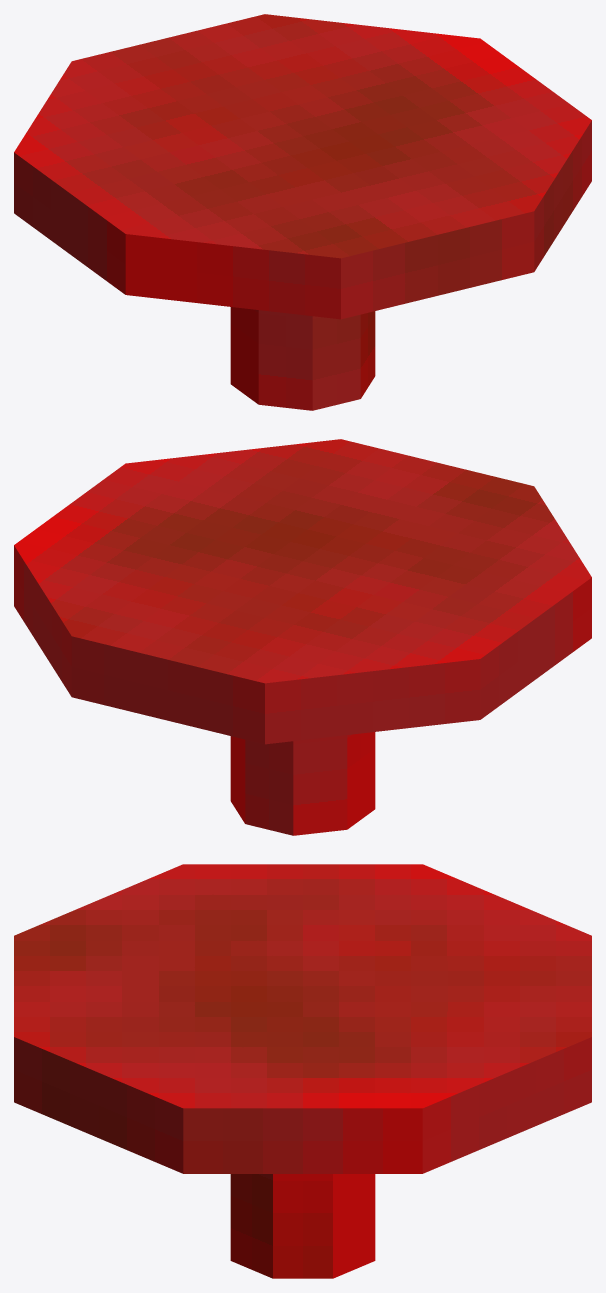
The model's file is pipeValve.gltf.
3 renders of one model, top to bottom at view 1: azimuth 30°, elevation 25°; view 2: azimuth 150°, elevation 25°; view 3: azimuth 270°, elevation 25°, orthographic. The views are drawn at different scales.
Parts seen in each view (by area): view 1: circle; view 2: circle; view 3: circle.
Boxes of the visible parts, x1,y1,x2,y2 form: circle: (14,14,591,410); circle: (14,439,591,835); circle: (14,864,591,1278).
Size of the model in its own units: 0.5 by 0.25 by 0.5.
1 material, 1 textured.
